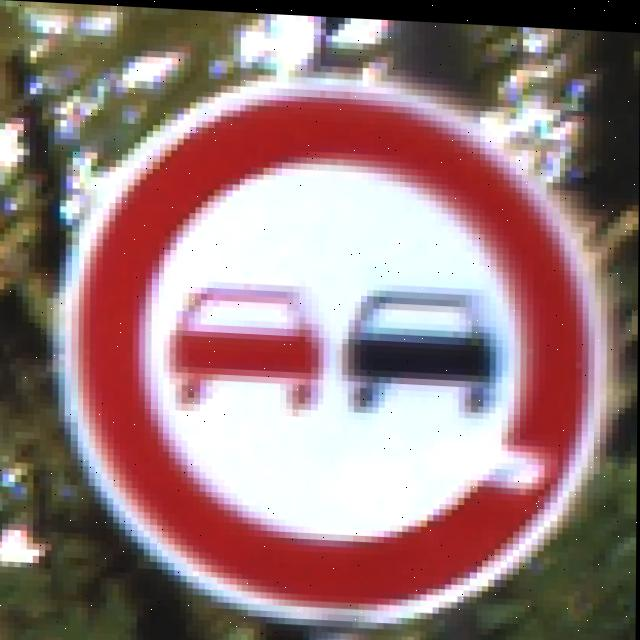no_overtaking: (74, 59, 576, 631)
